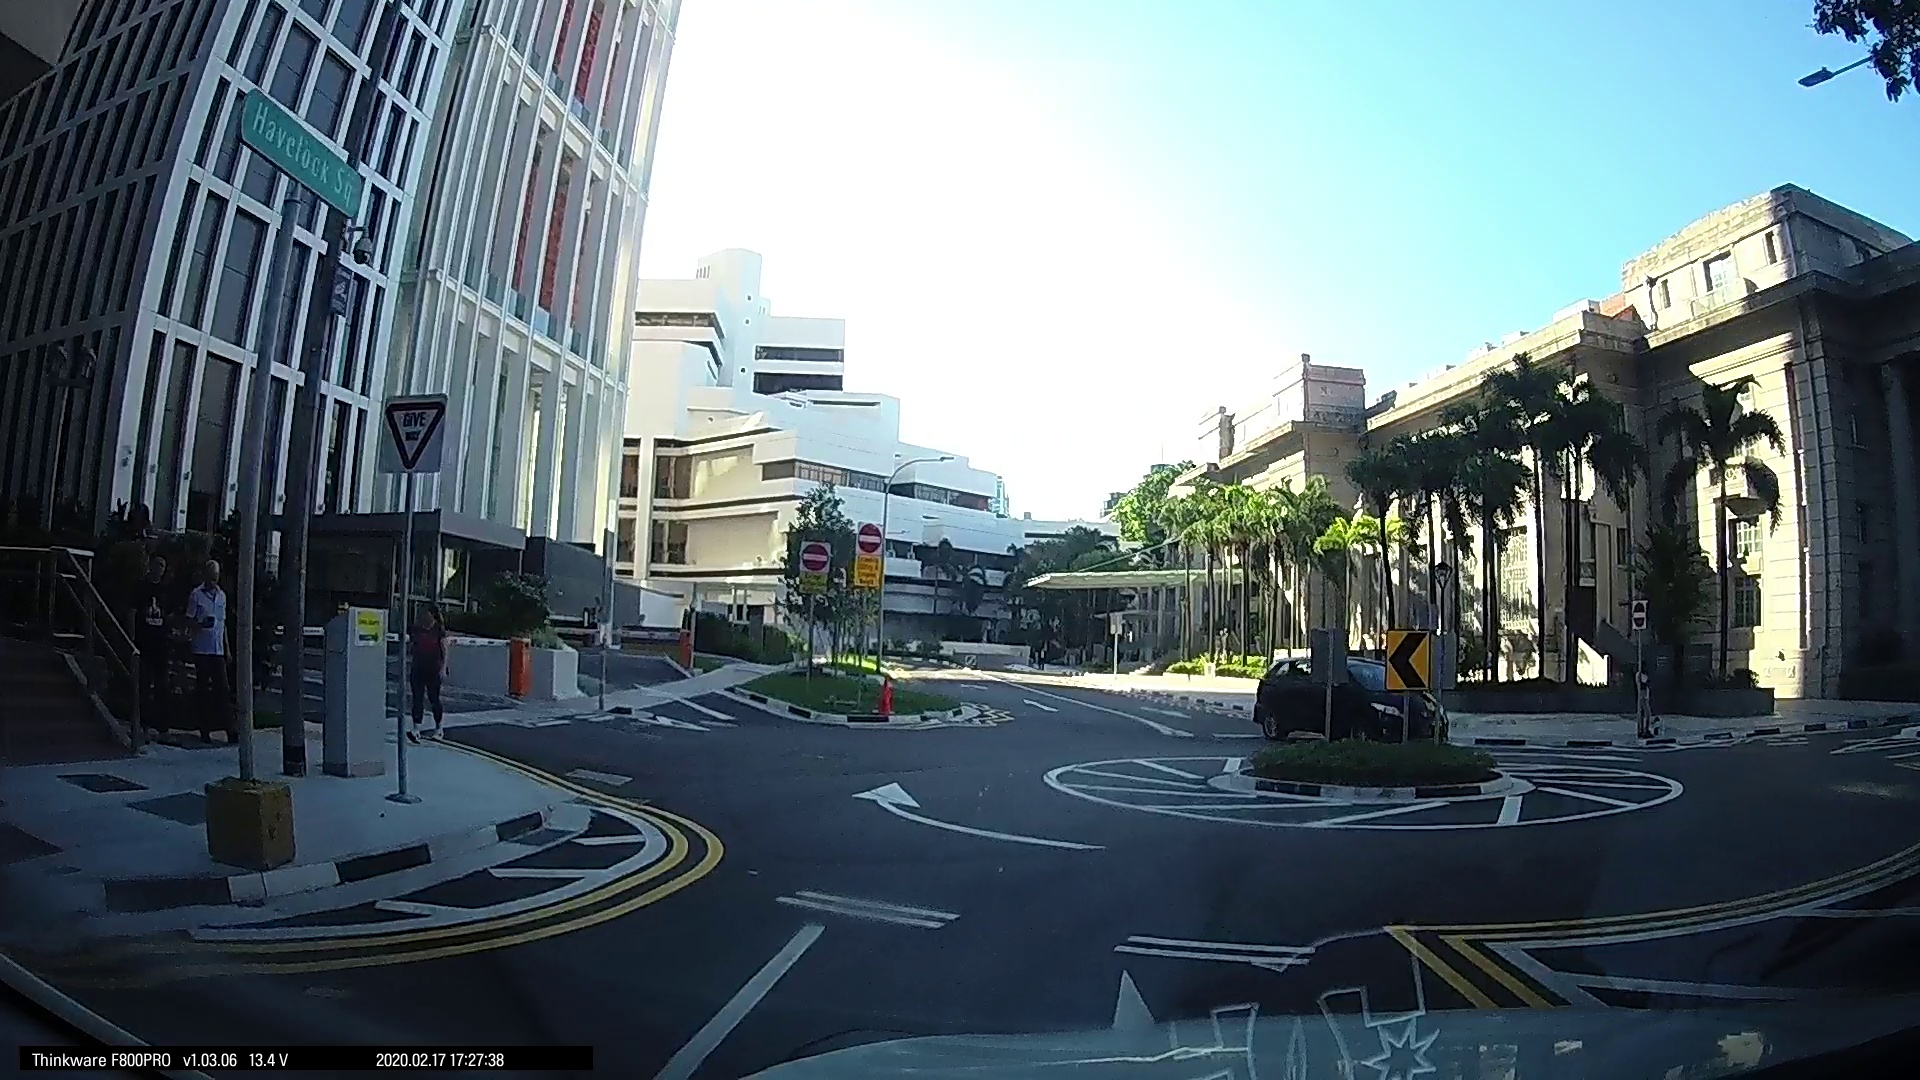Light Vehicle: (1241, 649, 1455, 746)
